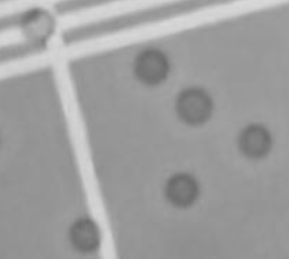cell: (170, 84, 217, 129), (158, 167, 204, 212), (63, 213, 108, 257), (129, 45, 172, 88), (233, 117, 274, 160), (17, 5, 58, 43)
